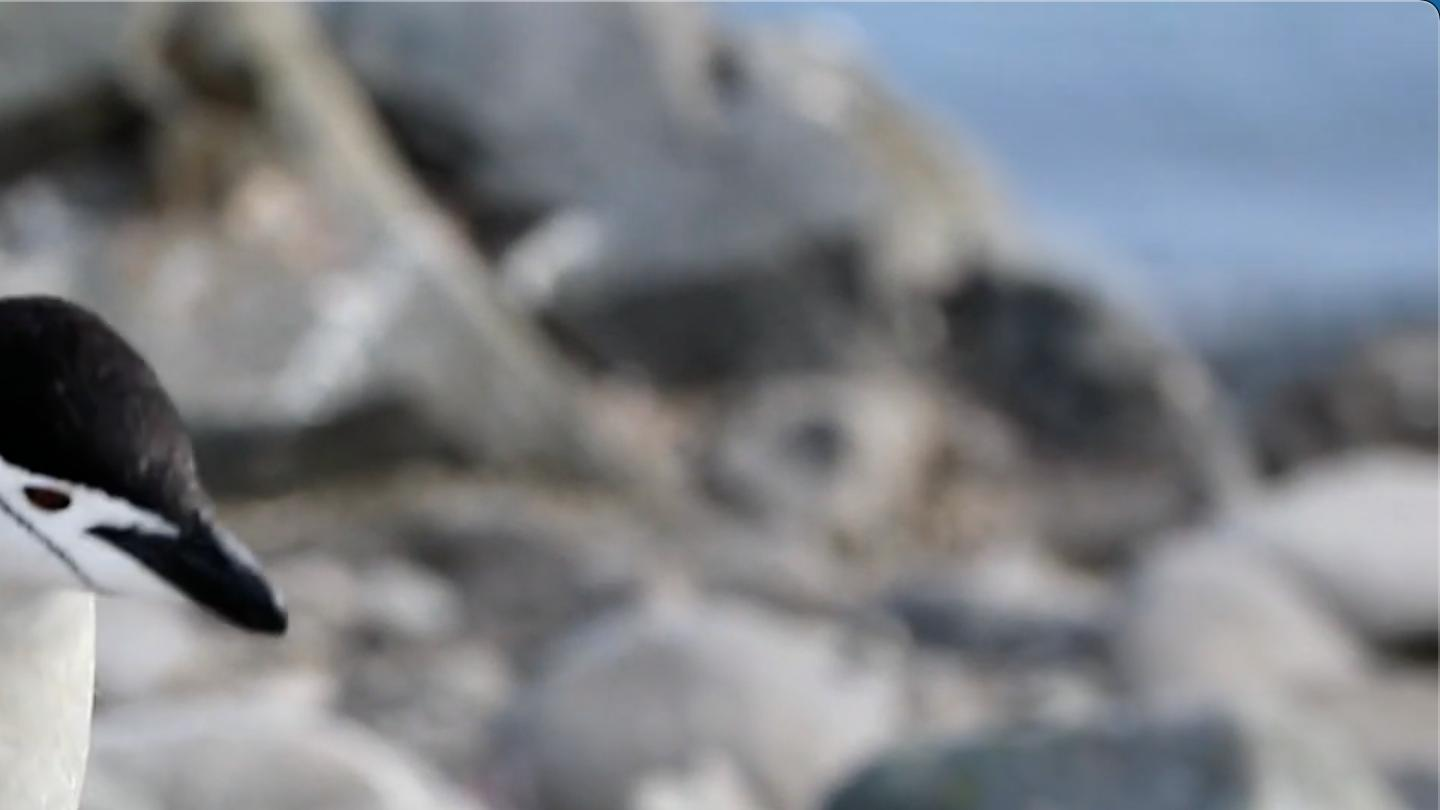Chinstrap Penguin: (0, 275, 294, 810)
